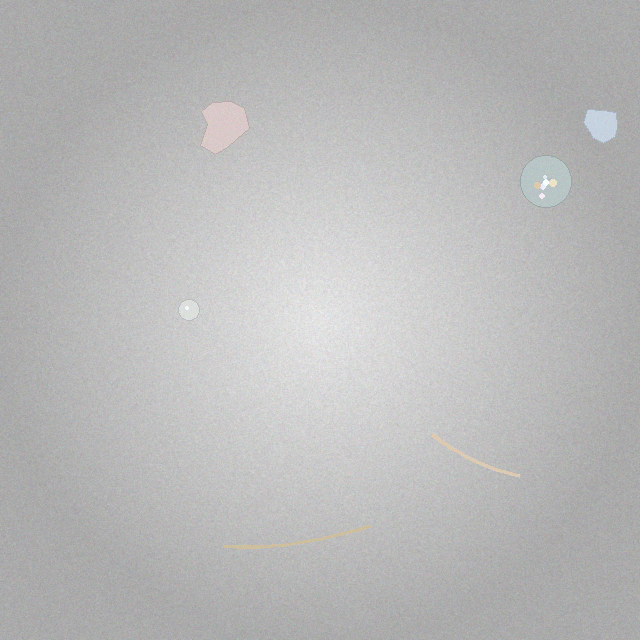fiber: (218, 521, 374, 552), (429, 431, 524, 480)
foam: (520, 156, 572, 207)
fragment: (201, 102, 249, 155), (584, 110, 617, 143)
pellet: (178, 300, 199, 321)
